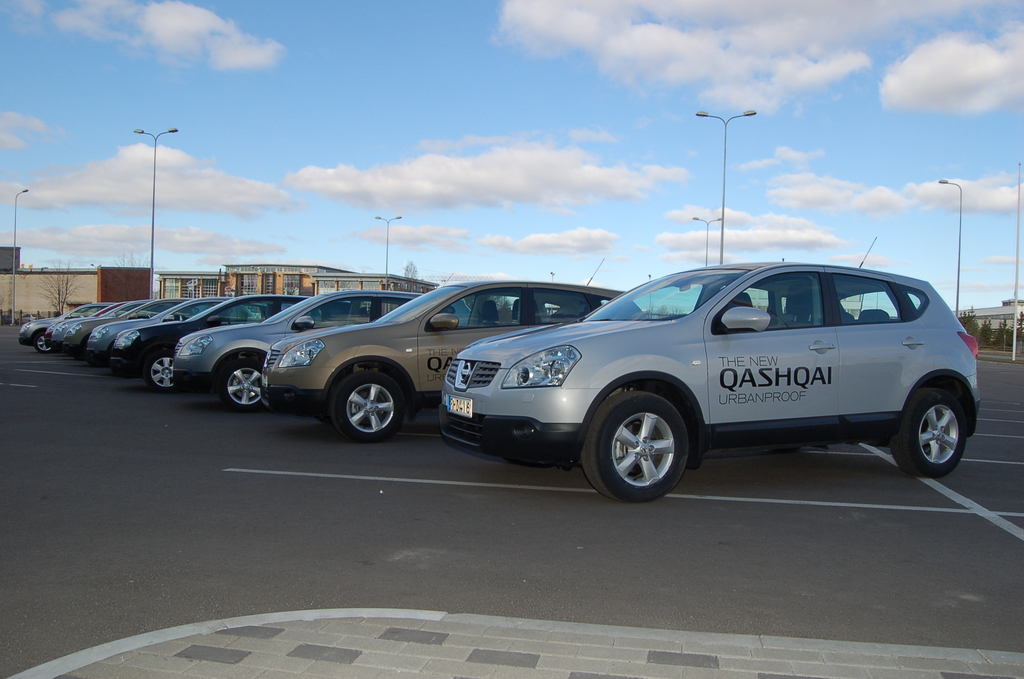mobil: (462, 261, 997, 493), (246, 272, 621, 425)
